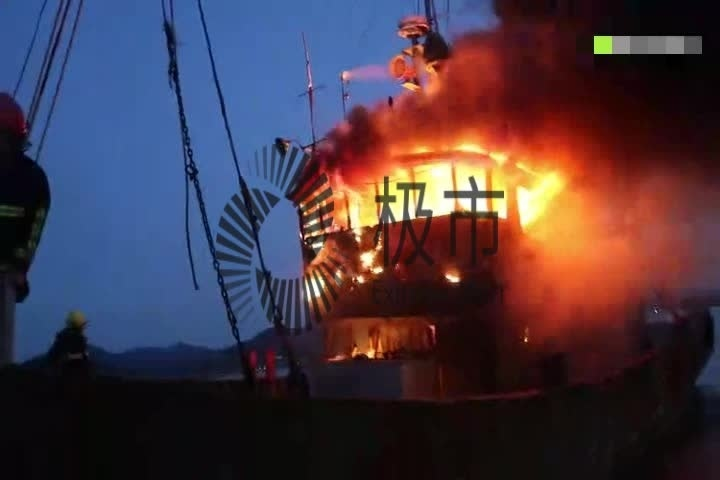fire: (330, 139, 565, 234)
